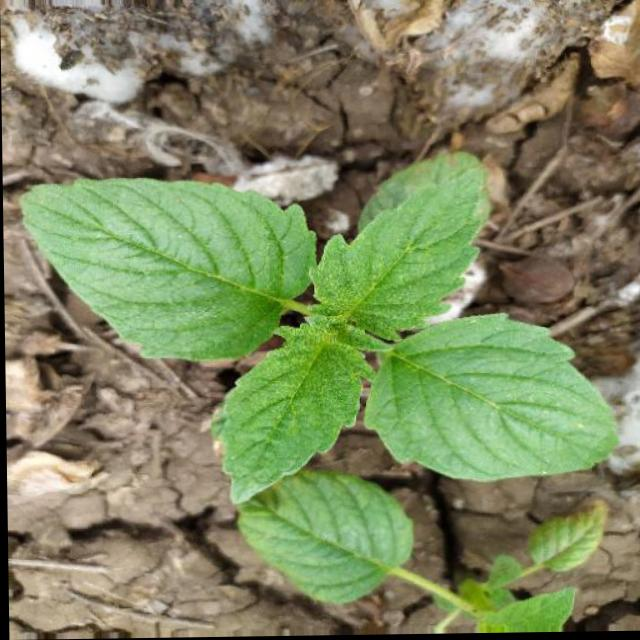crop: (20, 94, 632, 506)
